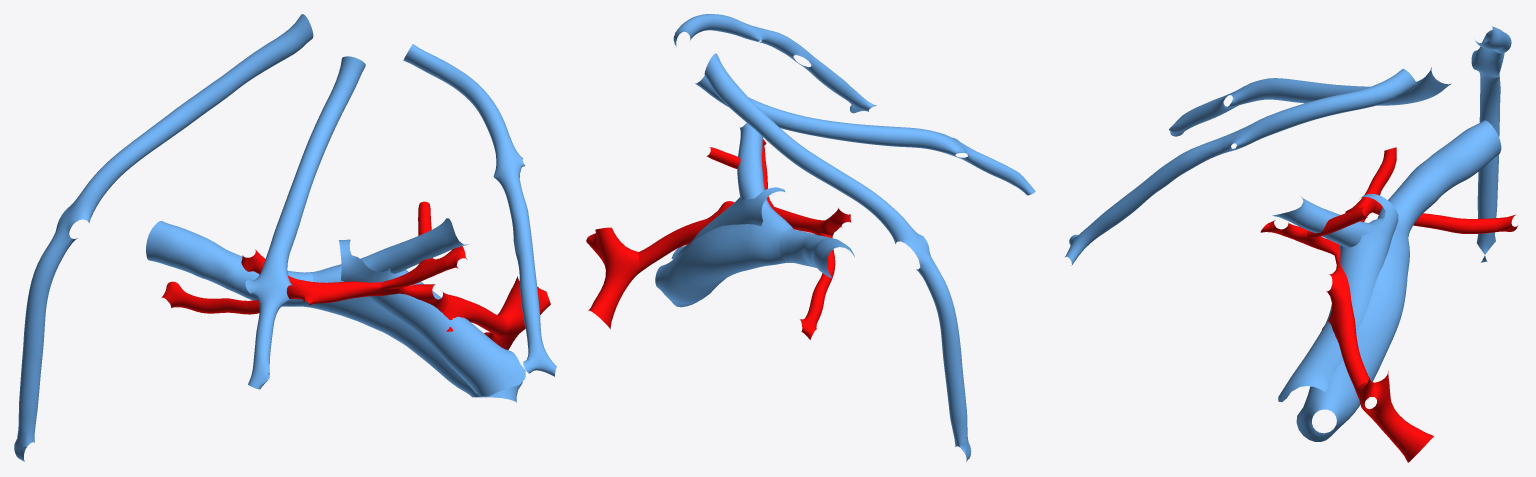
The model's file is VH_M_Blood_Vasculature_Liver.glb.
The picture shows the model from 3 angles, left to right: view 1: azimuth 30°, elevation 25°; view 2: azimuth 150°, elevation 25°; view 3: azimuth 270°, elevation 25°; orthographic projection. The views are drawn at different scales.
Parts seen in each view (by area): view 1: VH_M_right_hepatic_vein, VH_M_middle_hepatic_vein, VH_M_hepatic_portal_vein, VH_M_left_hepatic_vein, VH_M_right_branch_of_portal_vein, VH_M_portal_vein, VH_M_left_branch_of_portal_vein, VH_M_right_hepatic_artery, VH_M_posterior_segmental_right_hepatic_artery, VH_M_celiac_trunk, VH_M_common_hepatic_artery, VH_M_left_hepatic_artery (+1 smaller); view 2: VH_M_right_hepatic_vein, VH_M_portal_vein, VH_M_middle_hepatic_vein, VH_M_left_hepatic_vein, VH_M_celiac_trunk, VH_M_right_branch_of_portal_vein, VH_M_left_branch_of_portal_vein, VH_M_hepatic_portal_vein, VH_M_common_hepatic_artery, VH_M_posterior_segmental_right_hepatic_artery, VH_M_right_hepatic_artery; view 3: VH_M_left_hepatic_vein, VH_M_portal_vein, VH_M_hepatic_portal_vein, VH_M_right_branch_of_portal_vein, VH_M_middle_hepatic_vein, VH_M_right_hepatic_vein, VH_M_celiac_trunk, VH_M_left_branch_of_portal_vein, VH_M_common_hepatic_artery, VH_M_posterior_segmental_right_hepatic_artery, VH_M_left_hepatic_artery, VH_M_proper_hepatic_artery (+2 smaller).
Part boxes in pixels (left/top/right/bottom): VH_M_right_hepatic_vein: left=14, top=14, right=313, bottom=461; VH_M_middle_hepatic_vein: left=245, top=56, right=365, bottom=389; VH_M_hepatic_portal_vein: left=339, top=239, right=525, bottom=396; VH_M_left_hepatic_vein: left=403, top=44, right=556, bottom=376; VH_M_right_branch_of_portal_vein: left=146, top=221, right=312, bottom=306; VH_M_portal_vein: left=303, top=264, right=522, bottom=402; VH_M_left_branch_of_portal_vein: left=360, top=218, right=468, bottom=273; VH_M_right_hepatic_artery: left=286, top=276, right=380, bottom=305; VH_M_posterior_segmental_right_hepatic_artery: left=161, top=281, right=259, bottom=314; VH_M_celiac_trunk: left=484, top=276, right=550, bottom=349; VH_M_common_hepatic_artery: left=443, top=294, right=507, bottom=336; VH_M_left_hepatic_artery: left=380, top=246, right=467, bottom=288; VH_M_right_hepatic_vein: left=704, top=53, right=971, bottom=461; VH_M_portal_vein: left=655, top=206, right=794, bottom=307; VH_M_middle_hepatic_vein: left=695, top=76, right=1035, bottom=195; VH_M_left_hepatic_vein: left=673, top=14, right=876, bottom=113; VH_M_celiac_trunk: left=586, top=227, right=641, bottom=329; VH_M_right_branch_of_portal_vein: left=779, top=229, right=854, bottom=279; VH_M_left_branch_of_portal_vein: left=737, top=123, right=770, bottom=207; VH_M_hepatic_portal_vein: left=671, top=187, right=785, bottom=259; VH_M_common_hepatic_artery: left=638, top=219, right=706, bottom=271; VH_M_posterior_segmental_right_hepatic_artery: left=800, top=233, right=835, bottom=339; VH_M_right_hepatic_artery: left=770, top=205, right=829, bottom=235; VH_M_left_hepatic_vein: left=1065, top=69, right=1416, bottom=265; VH_M_portal_vein: left=1296, top=217, right=1409, bottom=441; VH_M_hepatic_portal_vein: left=1278, top=194, right=1398, bottom=401; VH_M_right_branch_of_portal_vein: left=1377, top=120, right=1501, bottom=236; VH_M_middle_hepatic_vein: left=1169, top=67, right=1451, bottom=136; VH_M_right_hepatic_vein: left=1471, top=26, right=1511, bottom=262; VH_M_celiac_trunk: left=1356, top=371, right=1433, bottom=462; VH_M_left_branch_of_portal_vein: left=1272, top=197, right=1377, bottom=247; VH_M_common_hepatic_artery: left=1322, top=303, right=1370, bottom=392; VH_M_posterior_segmental_right_hepatic_artery: left=1372, top=202, right=1517, bottom=233; VH_M_left_hepatic_artery: left=1260, top=220, right=1339, bottom=255; VH_M_proper_hepatic_artery: left=1326, top=249, right=1352, bottom=309.
Bounding box in the file's own units: 0.135 × 0.1029 × 0.1107.
